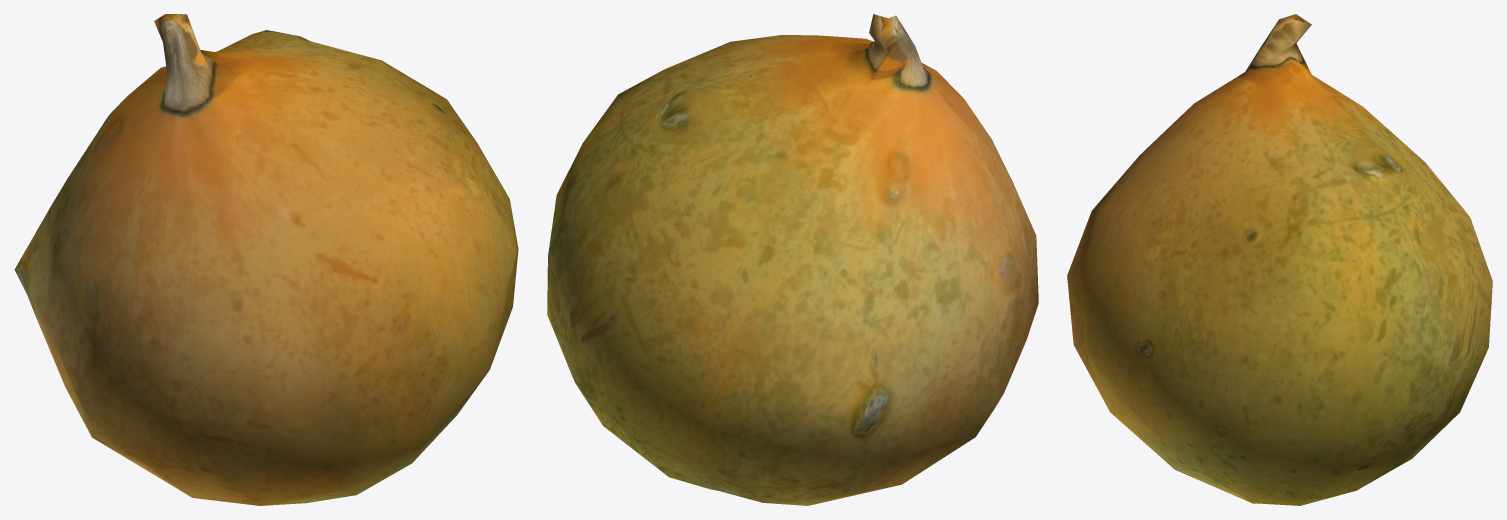
File: A43_Pumpkin_low.fbx
The picture shows the model from 3 angles, left to right: view 1: azimuth 30°, elevation 25°; view 2: azimuth 150°, elevation 25°; view 3: azimuth 270°, elevation 25°; orthographic projection. The views are drawn at different scales.
Visible parts, largest first — view 1: A43_Pumpkin_low; view 2: A43_Pumpkin_low; view 3: A43_Pumpkin_low.
Part boxes in pixels (x1,y1,x2,y2): A43_Pumpkin_low: [14, 14, 518, 505]; A43_Pumpkin_low: [547, 14, 1038, 505]; A43_Pumpkin_low: [1067, 14, 1492, 505].
Bounding box in the file's own units: 10.68 × 11.04 × 12.1.
1 material, 1 textured.
